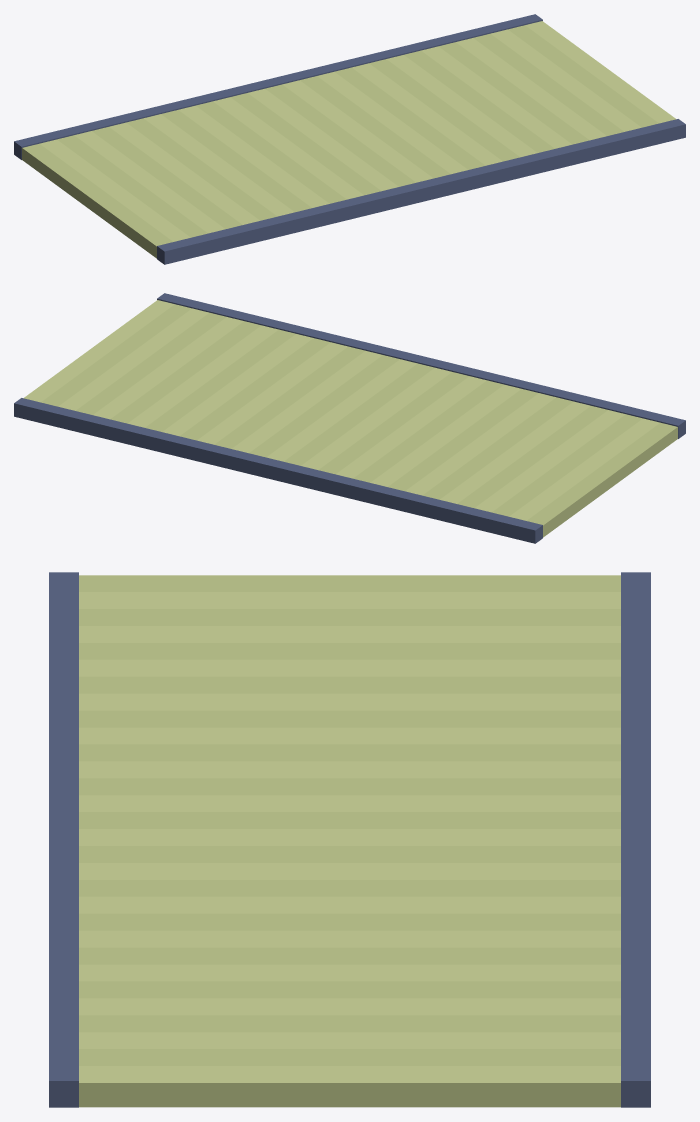
Rendered from furn_tatami.glb.
The picture shows the model from 3 angles, top to bottom: view 1: azimuth 30°, elevation 25°; view 2: azimuth 150°, elevation 25°; view 3: azimuth 270°, elevation 25°; orthographic projection. The views are drawn at different scales.
Parts seen in each view (by area): view 1: furn_tatami_body; view 2: furn_tatami_body; view 3: furn_tatami_body.
Part boxes in pixels (x1,y1,x2,y2): furn_tatami_body: (14, 14, 685, 264); furn_tatami_body: (14, 293, 685, 543); furn_tatami_body: (49, 572, 650, 1107).
Bounding box in the file's own units: 1.8 × 0.044 × 0.9.
